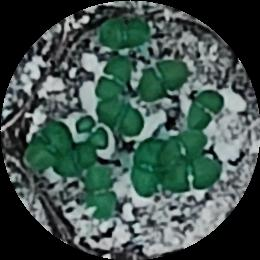Basil: (156, 161, 219, 194), (131, 136, 164, 197), (25, 123, 65, 173), (98, 97, 142, 138), (98, 15, 149, 50), (143, 61, 186, 101), (164, 126, 207, 166), (184, 89, 222, 129), (59, 143, 99, 180), (96, 58, 127, 101), (94, 171, 119, 218), (81, 116, 109, 154)
